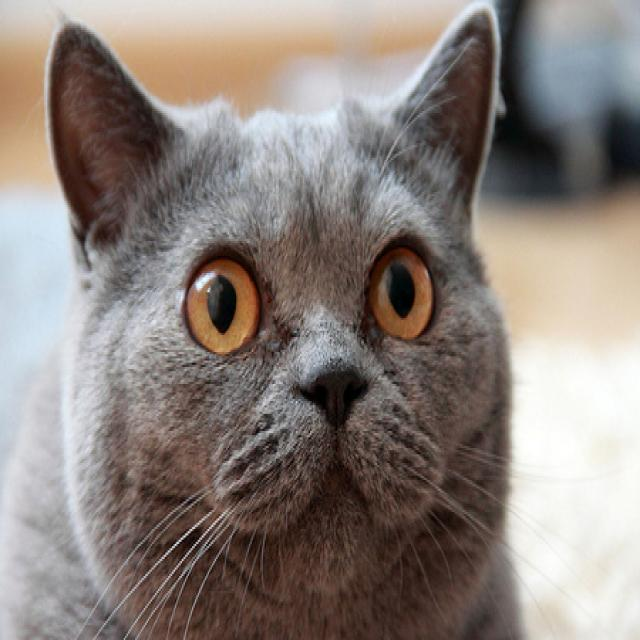British Shorthair: (0, 0, 535, 640)
